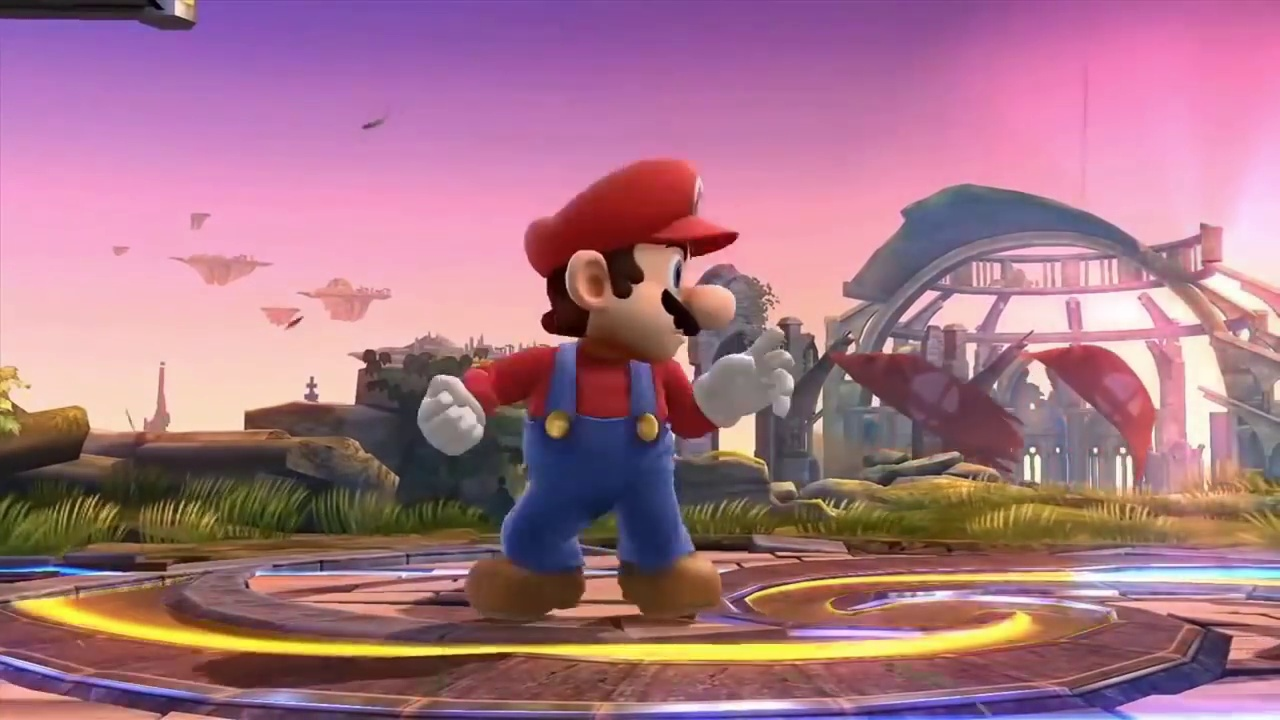Mario: (415, 155, 796, 613)
